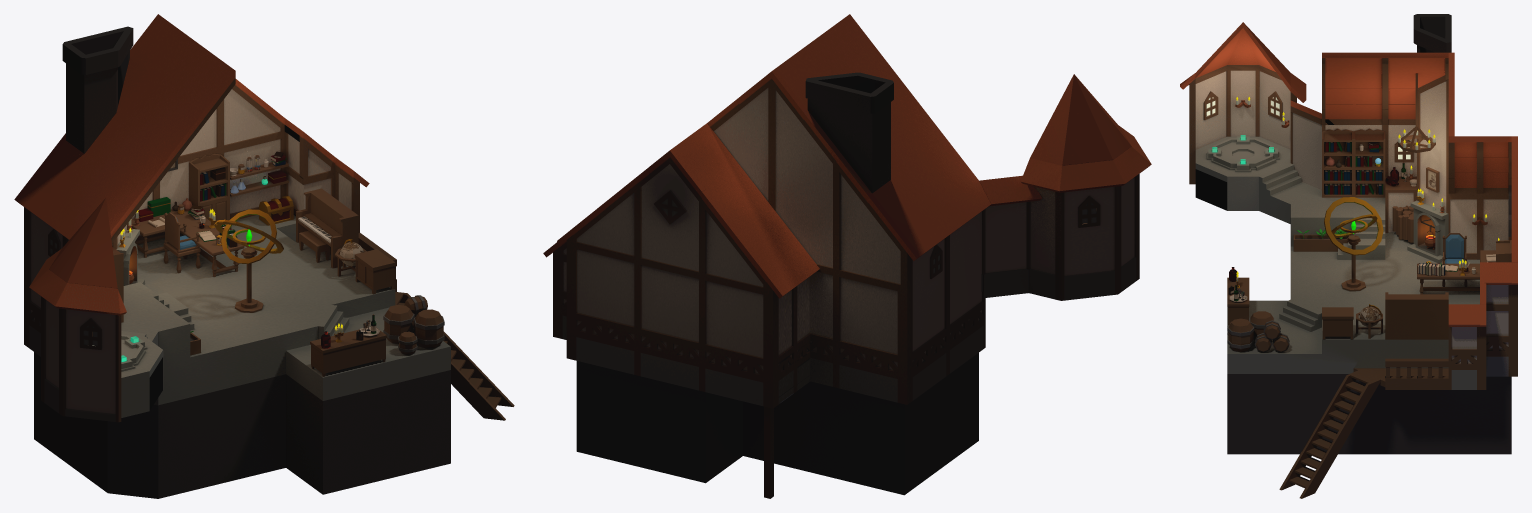
Rendered from DarkRoom.glb.
The picture shows the model from 3 angles, left to right: view 1: azimuth 30°, elevation 25°; view 2: azimuth 150°, elevation 25°; view 3: azimuth 270°, elevation 25°; orthographic projection. The views are drawn at different scales.
Parts seen in each view (by area): view 1: __JoinWall01.003, __JoinBase.003, __JoinFloor.003, __JoinWall02.003, __JoinStandAlone.003, __JoinBarrels.003, __JoinDesk.003, __JoinCabinet.003, __JoinFirePlace.003; view 2: __JoinWall02.003, __JoinWall01.003, __JoinBase.003; view 3: __JoinWall01.003, __JoinFloor.003, __JoinBase.003, __JoinWall02.003, __JoinStandAlone.003, __JoinCabinet.003, __JoinFirePlace.003, __JoinBarrels.003, __JoinDesk.003, __JoinPlants.003.
Boxes of the visible parts, bbox=[...] form: __JoinWall01.003: bbox=[18, 17, 235, 422]; __JoinBase.003: bbox=[34, 232, 514, 498]; __JoinFloor.003: bbox=[121, 215, 450, 417]; __JoinWall02.003: bbox=[14, 14, 369, 346]; __JoinStandAlone.003: bbox=[121, 188, 395, 371]; __JoinBarrels.003: bbox=[230, 151, 444, 376]; __JoinDesk.003: bbox=[131, 197, 244, 276]; __JoinCabinet.003: bbox=[112, 154, 229, 322]; __JoinFirePlace.003: bbox=[116, 219, 144, 285]; __JoinWall02.003: bbox=[543, 68, 920, 408]; __JoinWall01.003: bbox=[775, 14, 1151, 401]; __JoinBase.003: bbox=[576, 353, 978, 498]; __JoinWall01.003: bbox=[1180, 14, 1451, 233]; __JoinFloor.003: bbox=[1195, 136, 1479, 373]; __JoinBase.003: bbox=[1227, 358, 1511, 498]; __JoinWall02.003: bbox=[1448, 52, 1517, 389]; __JoinStandAlone.003: bbox=[1207, 135, 1448, 339]; __JoinCabinet.003: bbox=[1322, 128, 1511, 262]; __JoinFirePlace.003: bbox=[1385, 162, 1448, 263]; __JoinBarrels.003: bbox=[1227, 267, 1289, 352]; __JoinDesk.003: bbox=[1417, 233, 1499, 294]; __JoinPlants.003: bbox=[1235, 73, 1511, 251].
Bounding box in the file's own units: 15.85 × 11.7 × 10.7.
Materials: 10 (10 with a texture image).
